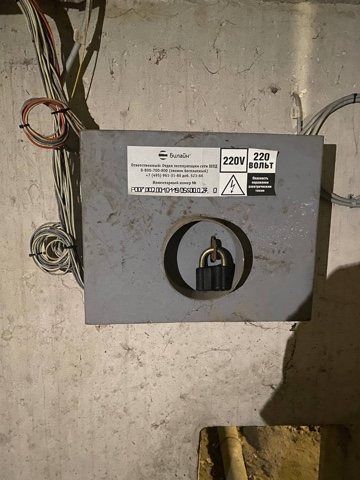shta-3: (75, 126, 329, 328)
